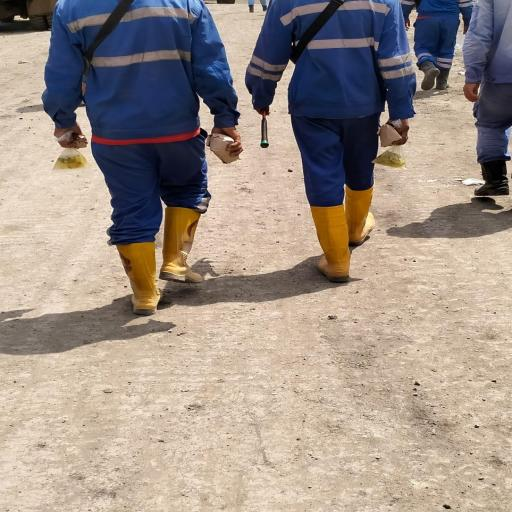safety_shoe: (299, 198, 352, 281), (160, 201, 204, 290), (112, 242, 167, 312), (338, 183, 383, 255), (472, 162, 512, 201)
